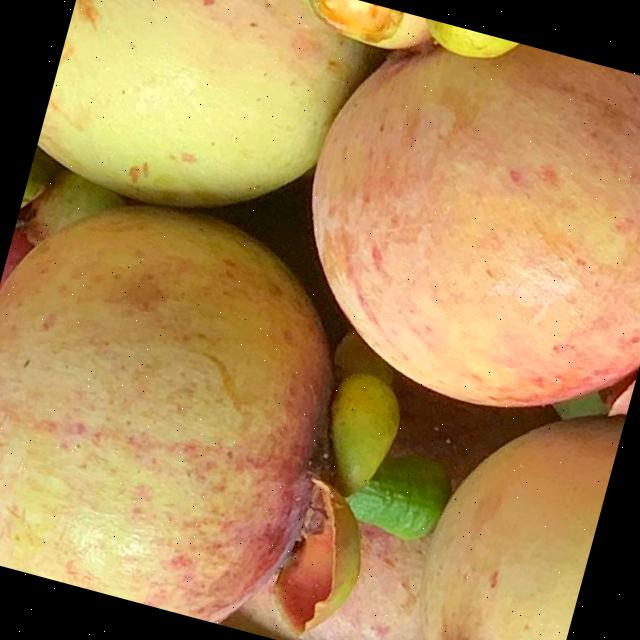mangosteen: (0, 164, 495, 640), (356, 358, 628, 640)
